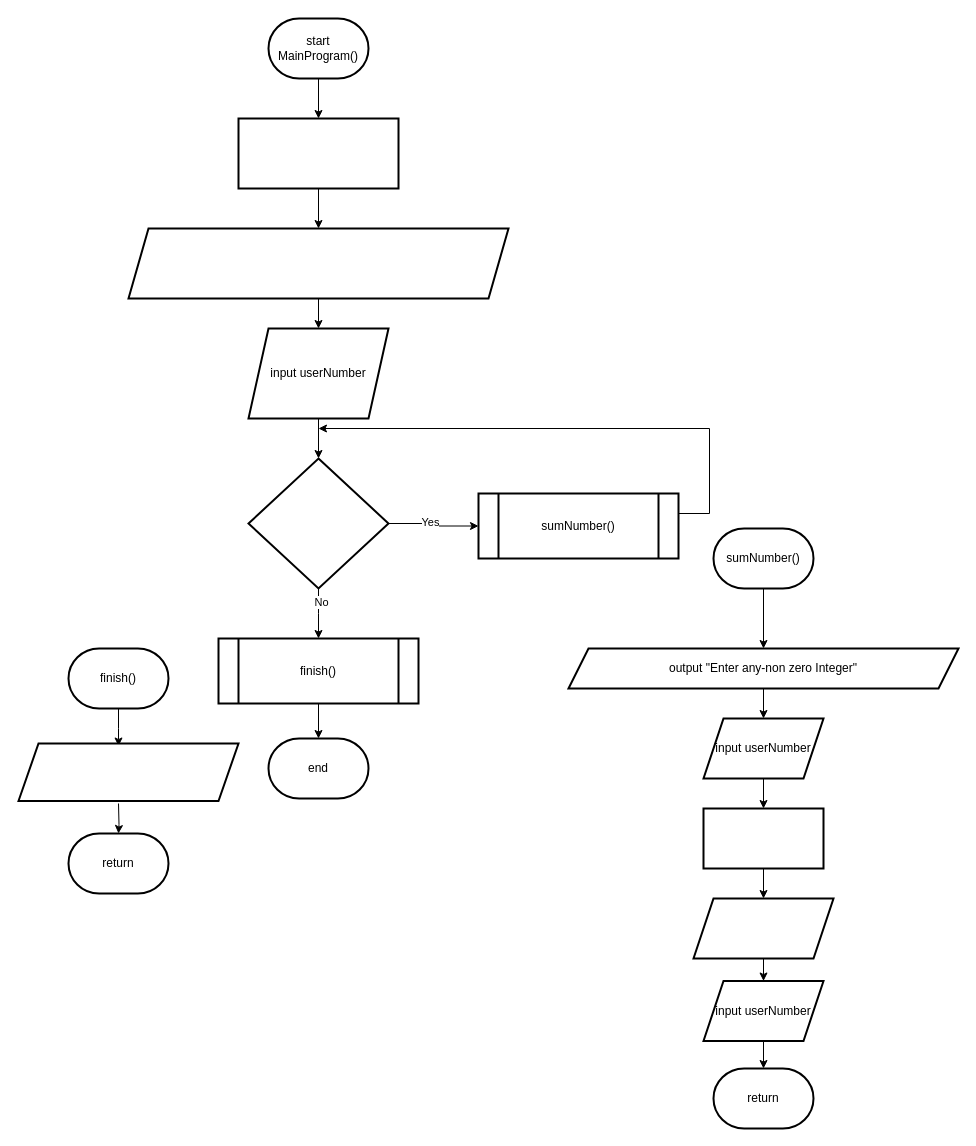
The diagram is 976 pixels wide and 1146 high, and some of its shapes have lost their labels. The shapes that lost their labels are listed below. From the top down, each one's centre as x and y in pixels, then its label:
point 318,153: Declarations num userNumber num accumNumber = 0
point 318,263: Output: "Enter any non-zero Integer, enter 0 to quit."
point 318,523: userNumber <> 0
point 128,772: output "Sum ", accumNumber
point 763,838: accumNumber = accumNumber + userNumber
point 763,928: output "Enter next integer."
